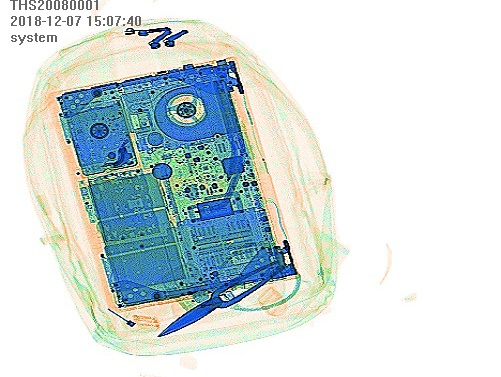scissors: (155, 240, 301, 338)
